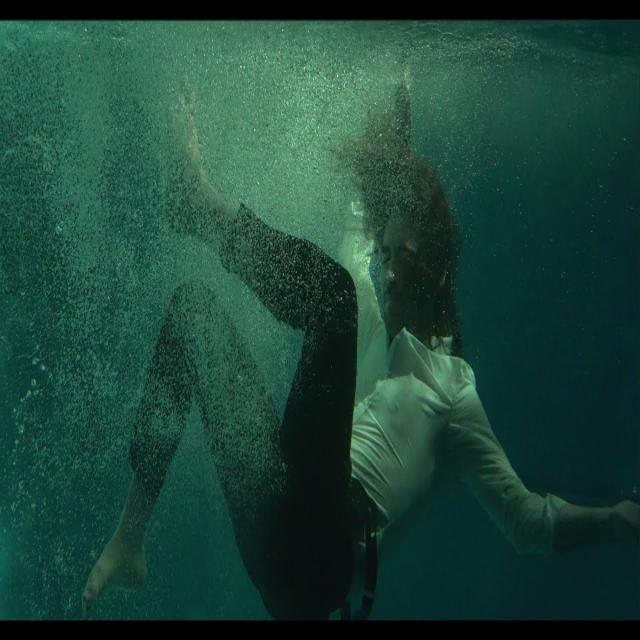drowning: (83, 71, 621, 626)
